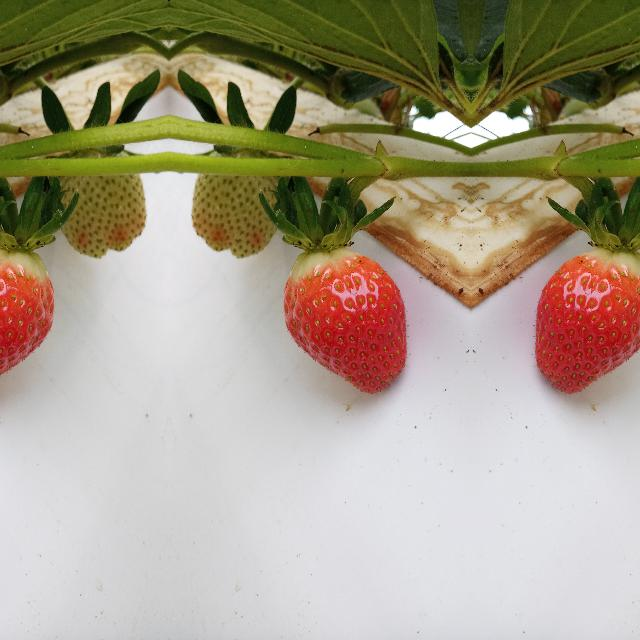Health_100: (282, 251, 408, 393), (532, 251, 640, 393), (0, 251, 54, 393)
Health_50: (192, 131, 282, 263), (54, 131, 144, 263)
